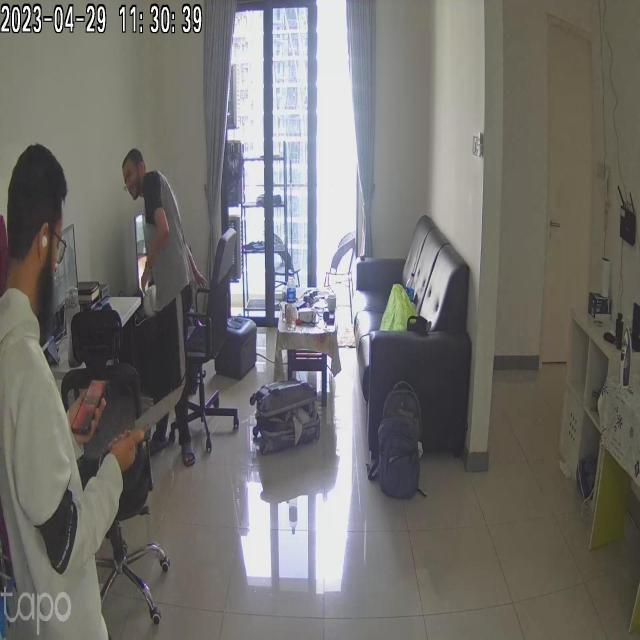Knife: (127, 374, 193, 458)
